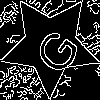G: (25, 20, 83, 79)
